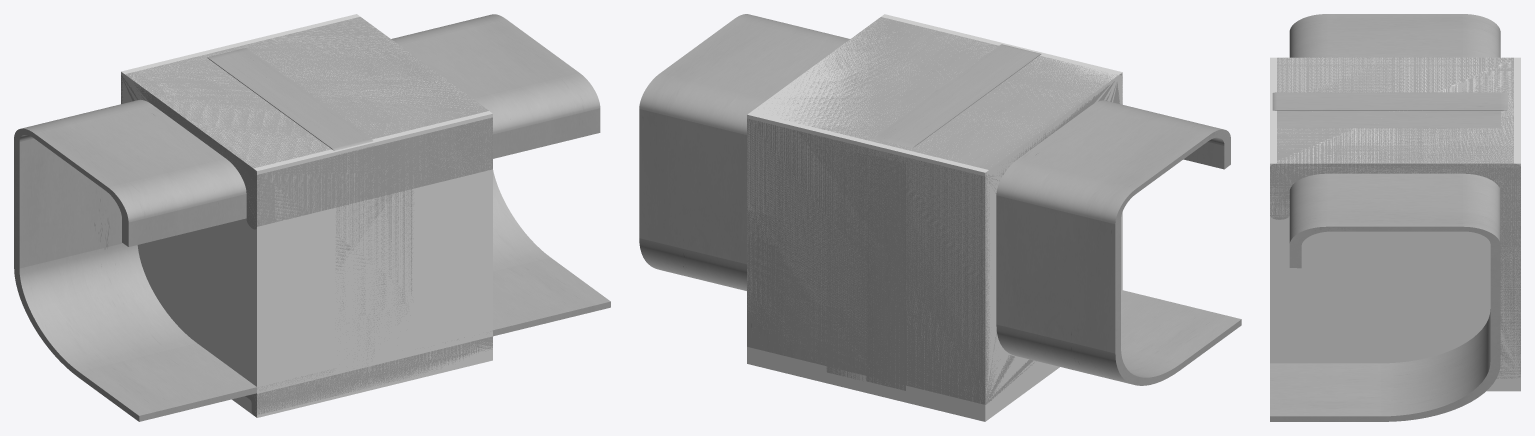
Rendered from InternalDrawer.gltf.
The picture shows the model from 3 angles, left to right: view 1: azimuth 30°, elevation 25°; view 2: azimuth 150°, elevation 25°; view 3: azimuth 270°, elevation 25°; orthographic projection. The views are drawn at different scales.
Visible parts, largest first — view 1: Back, HRight, Middle, HLeft; view 2: Middle, HRight, Back, HLeft; view 3: Back, HLeft, Middle, HRight.
Part boxes in pixels (left/top/right/bottom): Back: left=121, top=14, right=492, bottom=417; HRight: left=14, top=48, right=374, bottom=421; Middle: left=121, top=17, right=492, bottom=416; HLeft: left=253, top=14, right=610, bottom=343; Middle: left=747, top=17, right=1122, bottom=404; HRight: left=866, top=44, right=1241, bottom=390; Back: left=747, top=14, right=1122, bottom=421; HLeft: left=639, top=14, right=998, bottom=380; Back: left=1270, top=57, right=1520, bottom=391; HLeft: left=1270, top=110, right=1500, bottom=421; Middle: left=1270, top=57, right=1520, bottom=378; HRight: left=1272, top=14, right=1507, bottom=110.
Size of the model in its own units: 2 by 1 by 1.
Materials: 2 (1 with a texture image).
